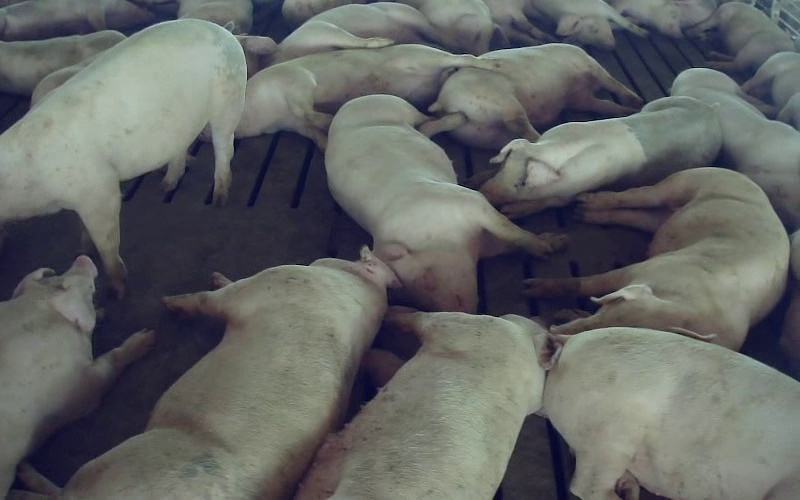pig: (11, 247, 397, 499), (0, 19, 246, 295), (297, 309, 556, 499), (525, 168, 786, 349), (541, 328, 799, 499), (0, 256, 153, 499), (466, 97, 721, 216), (235, 44, 495, 149), (429, 43, 642, 149), (671, 68, 799, 230), (270, 2, 438, 63), (686, 2, 794, 75), (742, 52, 799, 129)
